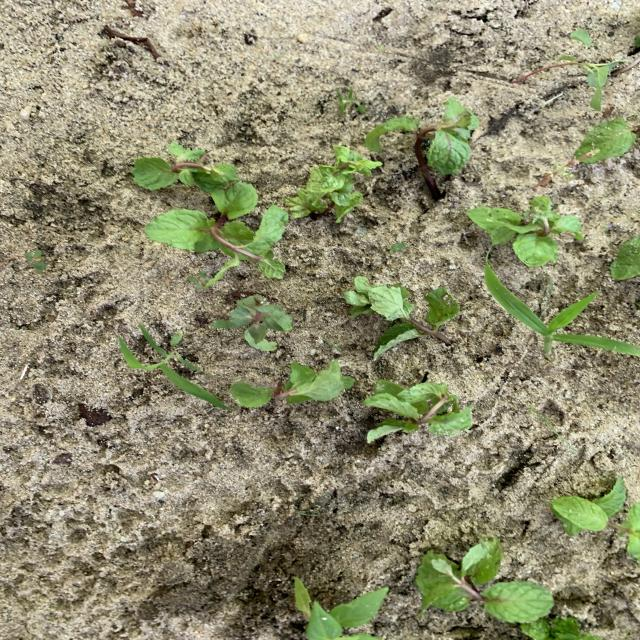crop: (144, 182, 287, 281), (416, 536, 554, 622), (366, 98, 479, 188), (347, 276, 459, 354), (468, 196, 583, 265), (551, 478, 640, 561), (285, 146, 380, 222), (132, 144, 240, 206), (364, 381, 473, 442), (231, 360, 354, 405), (558, 55, 639, 109), (213, 296, 292, 350), (574, 110, 638, 163), (522, 617, 600, 639), (611, 238, 639, 279)
weed: (486, 266, 640, 357), (118, 324, 228, 409), (294, 578, 388, 640), (213, 296, 292, 350), (529, 407, 575, 453), (536, 164, 572, 186), (24, 250, 47, 271), (187, 271, 210, 288), (338, 89, 354, 113), (572, 30, 592, 46), (327, 340, 340, 352), (391, 243, 406, 251)
